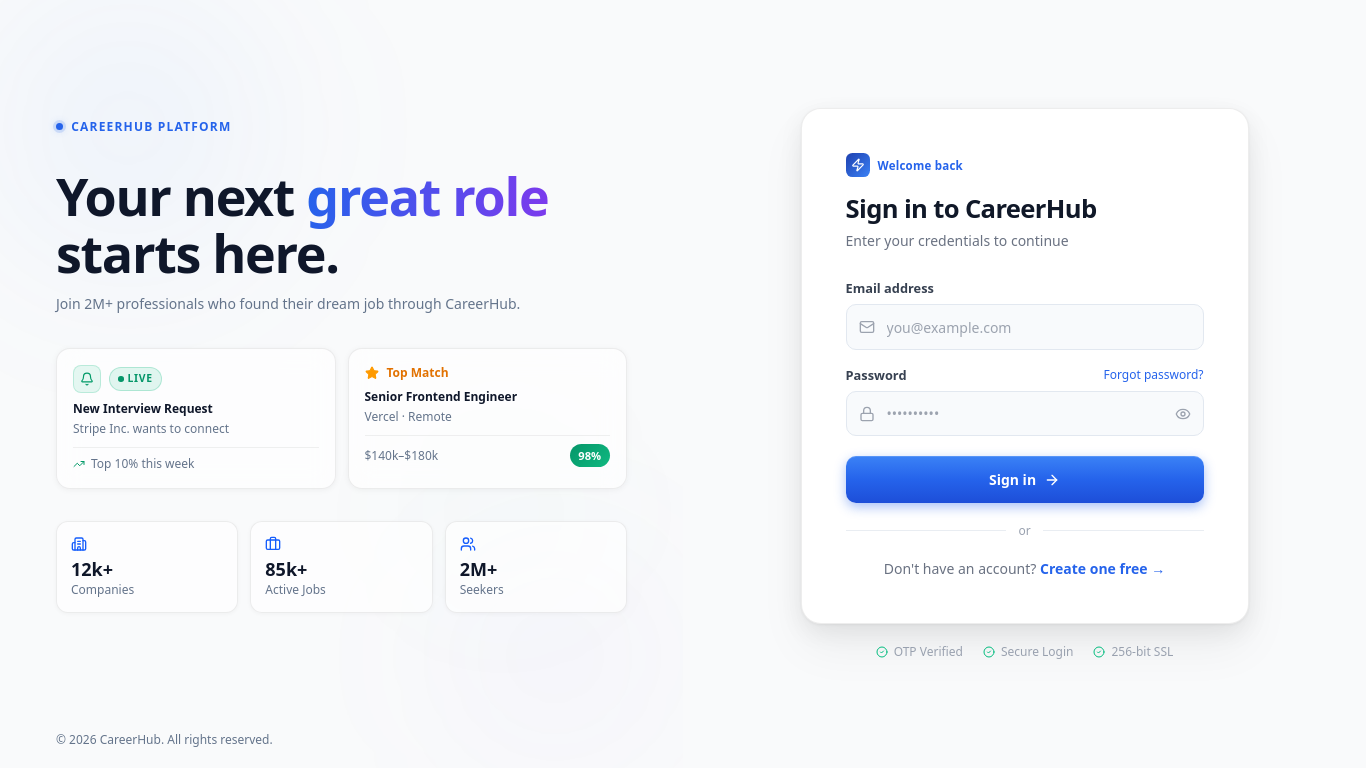
Login page › otp mode: short OTP shows error
The image size is (1366, 768).
Click the button "Forgot password?": x=1154, y=375 [1104,367,1204,383]
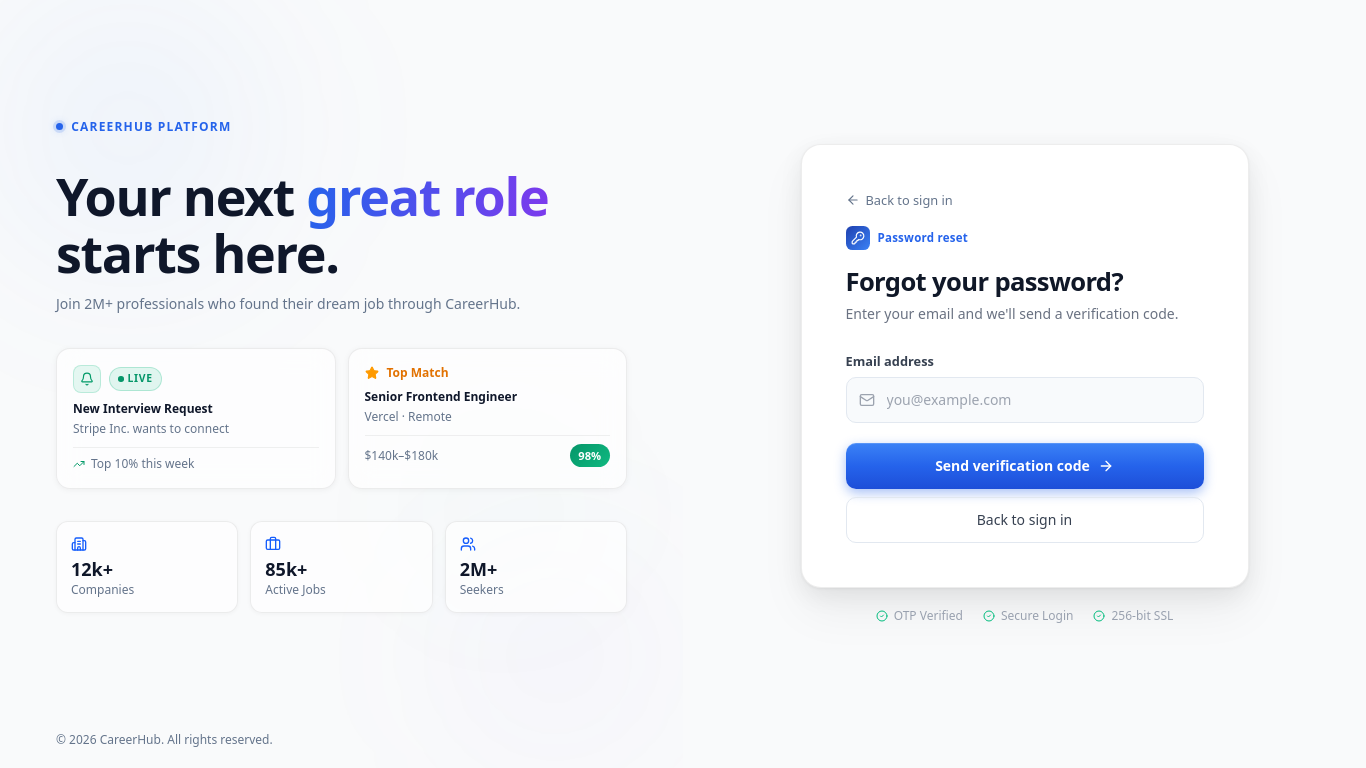
In the field labelled "Email address": x=1044, y=400 [886,378,1202,422], type "a@b.com"
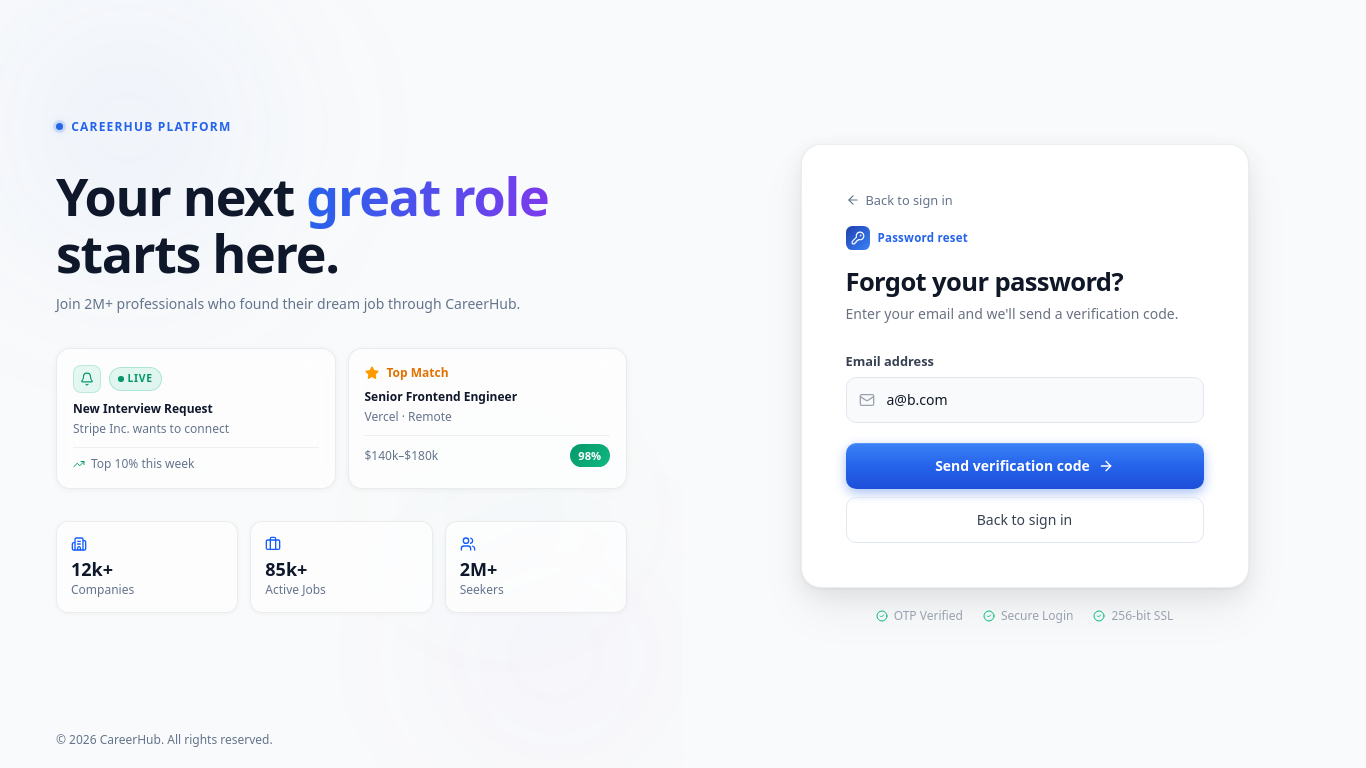
Click the button "Send verification code": x=1024, y=466 [846,443,1204,489]
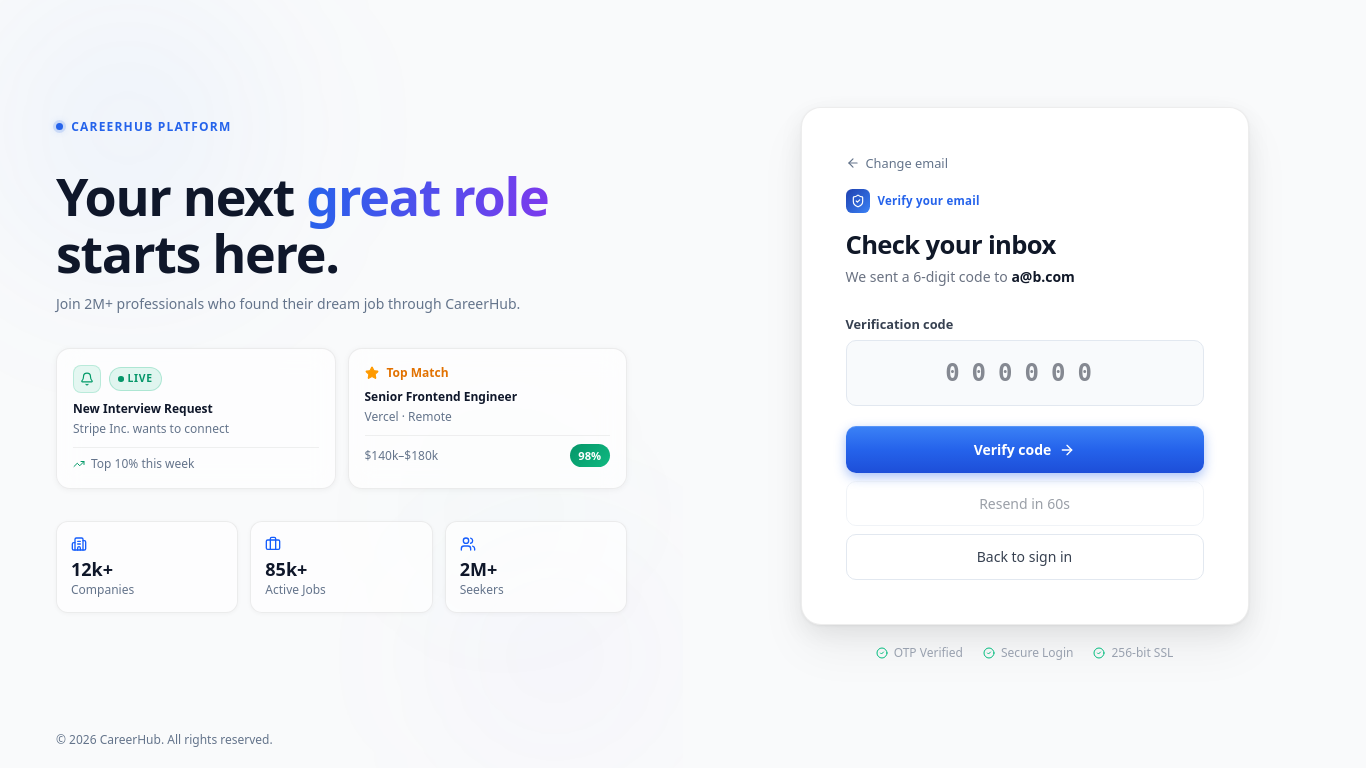
Expected: the heading "Check your inbox" is shown, [846,227,1056,262]
Click the button "Verify code": x=1024, y=450 [846,426,1204,473]
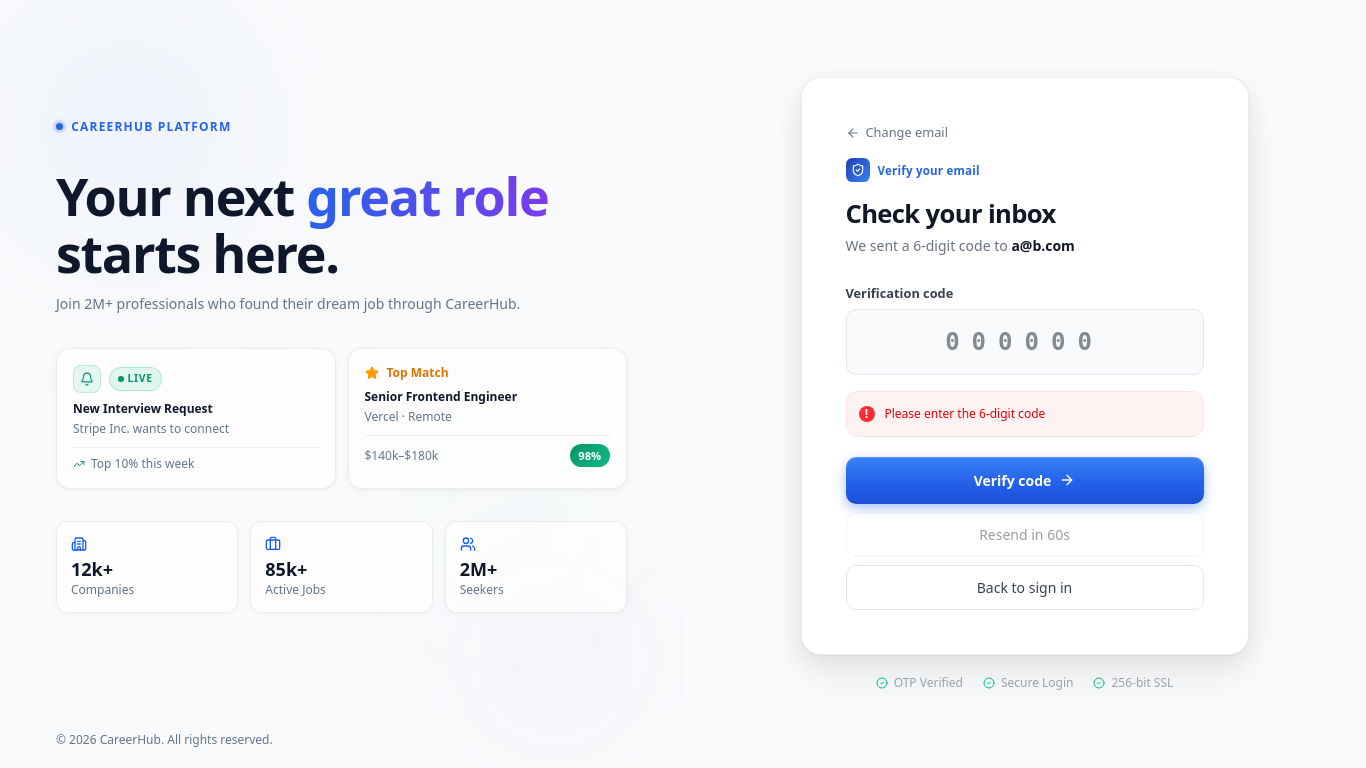
Expected: the text "Please enter the 6-digit code" is shown, [884,404,1045,424]
